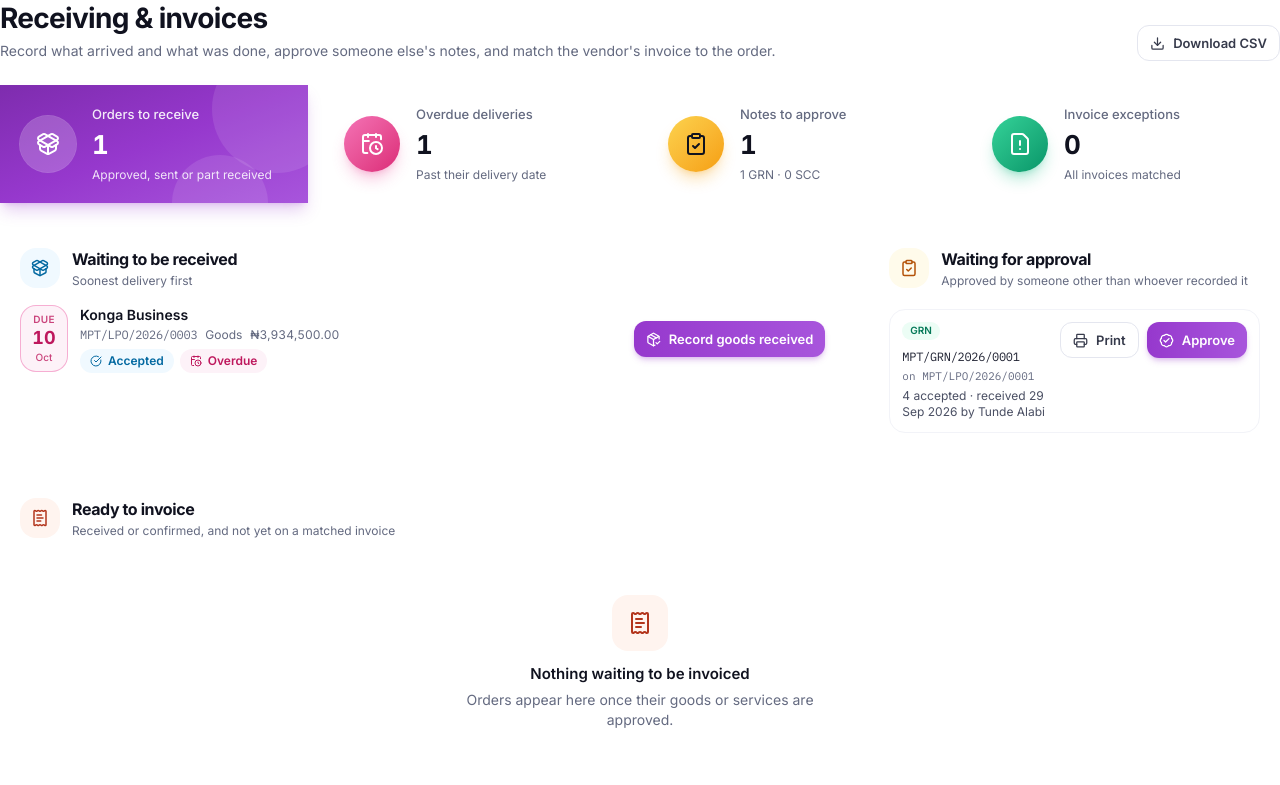
it: ReceivingDesk › shows a separation-of-duties refusal plainly, on the note
Click the button "Approve".
click(1197, 340)  # box [1147,322,1247,358]
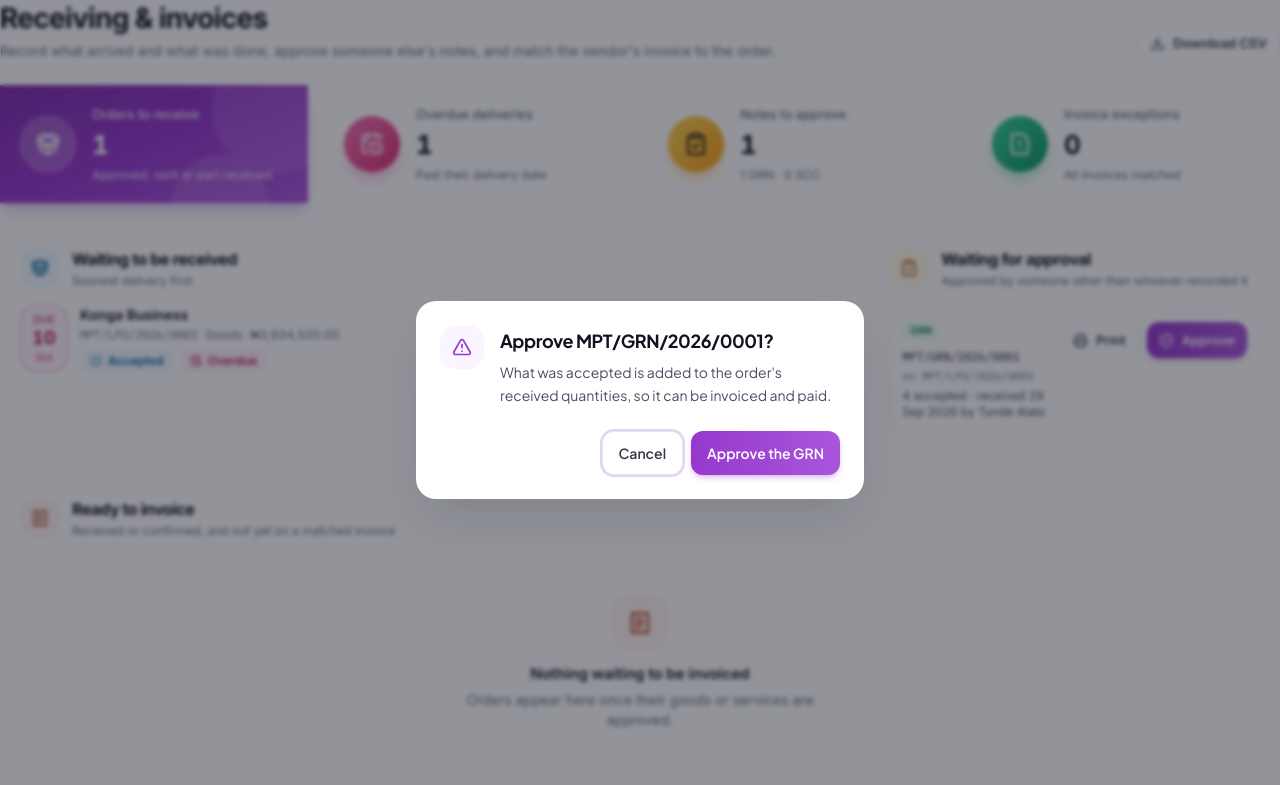
Click the button "Approve the GRN".
click(766, 453)  # box [691,431,840,475]
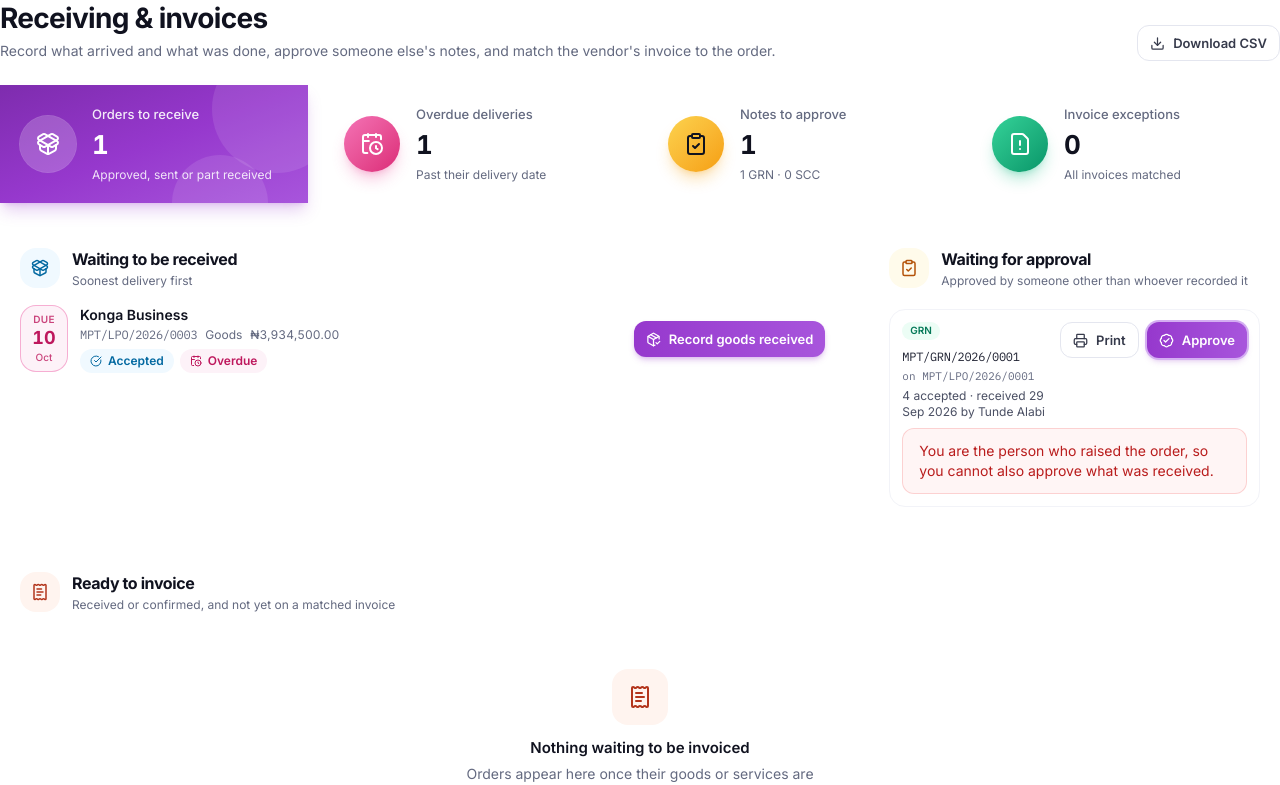
expect the text "You are the person who raised the order, so you cannot also approve what was received." is shown: met, box [919,442,1214,479]
